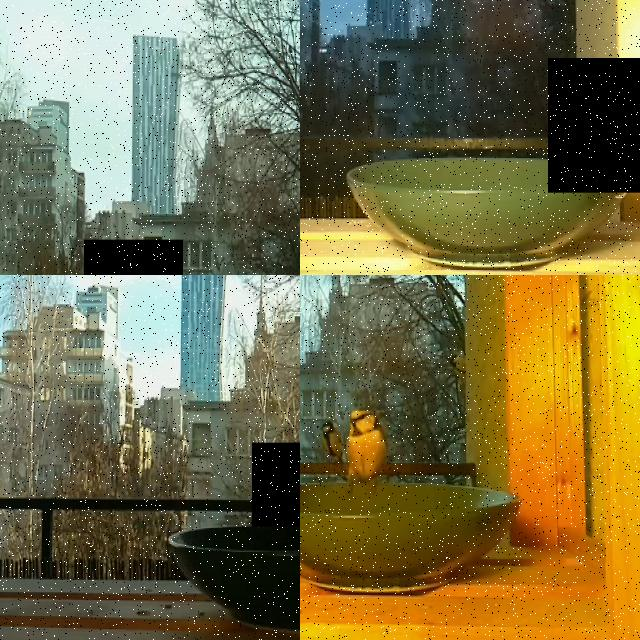Bogatka: (548, 58, 640, 192)
Modraszka: (252, 442, 300, 526), (346, 407, 390, 496)
Wrobel: (84, 239, 183, 275)
